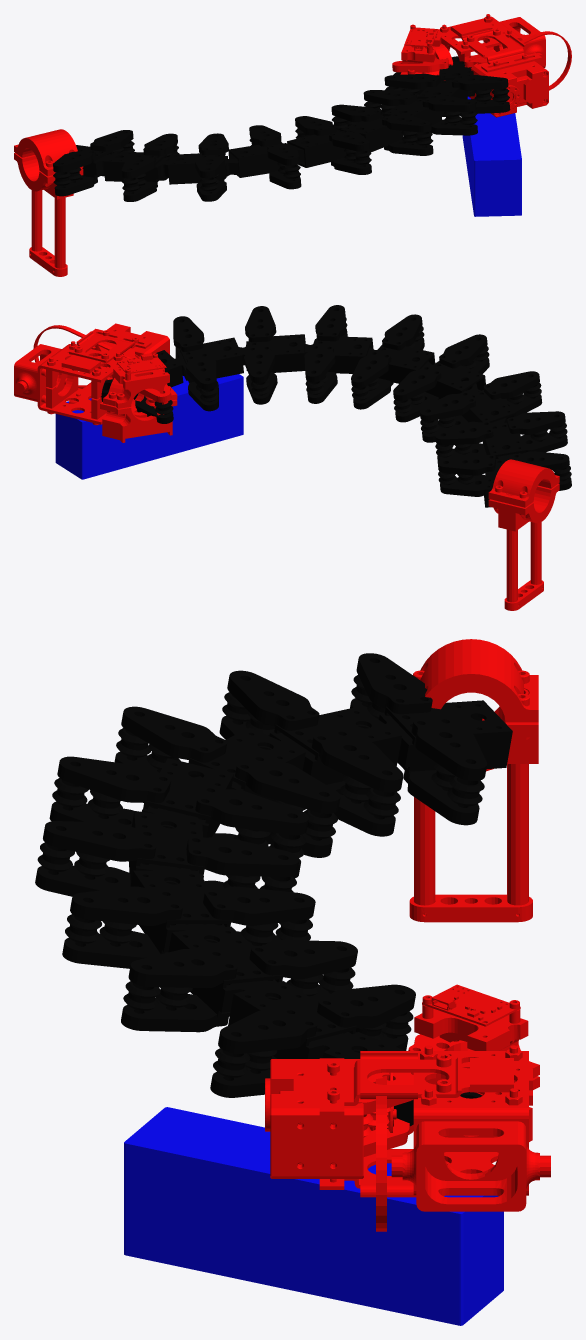
The model's file is ducted_fan_head_link_spine_shaped.dae.
3 views of the same model, one above another, from view 1: azimuth 30°, elevation 25°; view 2: azimuth 150°, elevation 25°; view 3: azimuth 270°, elevation 25° (orthographic). The views are drawn at different scales.
Parts seen in each view (by area): view 1: ducted_fan_head_link_spine_shaped - spine_for_dragon-1 tail. (×33), ducted_fan_head_link_spine_shaped - zippy-3000Amh-6s_3-1, ducted_fan_head_link_spine_shaped - end_leg_1-1 end_link_leg (×2), ducted_fan_head_link_spine_shaped - joint_3-1 x-430_idle_3-1, ducted_fan_head_link_spine_shaped - joint_3-1 joint_servo_h, ducted_fan_head_link_spine_shaped - spine_for_dragon-1 tail_, ducted_fan_head_link_spine_shaped - joint_3-1 joint_connecti, ducted_fan_head_link_spine_shaped - joint_3-1 joint_pipe_hol, ducted_fan_head_link_spine_shaped - end_leg_1-1 end_leg_pip, ducted_fan_head_link_spine_shaped - end_leg_1-1 end_leg_pipe, ducted_fan_head_link_spine_shaped - neuron_set_3-1 neuron_bo, ducted_fan_head_link_spine_shaped - neuron_set_3-1 distribut (+3 smaller); view 2: ducted_fan_head_link_spine_shaped - spine_for_dragon-1 tail. (×33), ducted_fan_head_link_spine_shaped - zippy-3000Amh-6s_3-1, ducted_fan_head_link_spine_shaped - end_leg_1-1 end_link_leg (×2), ducted_fan_head_link_spine_shaped - joint_3-1 joint_pipe_hol, ducted_fan_head_link_spine_shaped - joint_3-1 joint_connecti, ducted_fan_head_link_spine_shaped - neuron_set_3-1 neuron_bo, ducted_fan_head_link_spine_shaped - spine_for_dragon-1 tail_, ducted_fan_head_link_spine_shaped - neuron_set_3-1 25mm_pipe, ducted_fan_head_link_spine_shaped - joint_3-1 joint_servo_h, ducted_fan_head_link_spine_shaped - joint_3-1 x-430_idle_3-1, ducted_fan_head_link_spine_shaped - end_leg_1-1 end_leg_pipe, ducted_fan_head_link_spine_shaped - end_leg_1-1 end_leg_pip (+5 smaller); view 3: ducted_fan_head_link_spine_shaped - spine_for_dragon-1 tail. (×33), ducted_fan_head_link_spine_shaped - zippy-3000Amh-6s_3-1, ducted_fan_head_link_spine_shaped - joint_3-1 x-430_idle_3-1, ducted_fan_head_link_spine_shaped - joint_3-1 joint_connecti, ducted_fan_head_link_spine_shaped - end_leg_1-1 end_link_leg (×2), ducted_fan_head_link_spine_shaped - joint_3-1 joint_pipe_hol, ducted_fan_head_link_spine_shaped - joint_3-1 joint_servo_h, ducted_fan_head_link_spine_shaped - end_leg_1-1 end_leg_pipe, ducted_fan_head_link_spine_shaped - end_leg_1-1 end_leg_lock, ducted_fan_head_link_spine_shaped - neuron_set_3-1 neuron_bo, ducted_fan_head_link_spine_shaped - spine_for_dragon-1 tail_, ducted_fan_head_link_spine_shaped - end_leg_1-1 end_leg_pip (+4 smaller).
Boxes of the visible parts, bbox=[...] form: ducted_fan_head_link_spine_shaped - spine_for_dragon-1 tail. (×33): bbox=[53, 57, 510, 201]; ducted_fan_head_link_spine_shaped - zippy-3000Amh-6s_3-1: bbox=[462, 96, 521, 216]; ducted_fan_head_link_spine_shaped - end_leg_1-1 end_link_leg (×2): bbox=[14, 129, 83, 199]; ducted_fan_head_link_spine_shaped - joint_3-1 x-430_idle_3-1: bbox=[471, 61, 548, 117]; ducted_fan_head_link_spine_shaped - joint_3-1 joint_servo_h: bbox=[461, 28, 541, 72]; ducted_fan_head_link_spine_shaped - spine_for_dragon-1 tail_: bbox=[228, 142, 282, 177]; ducted_fan_head_link_spine_shaped - joint_3-1 joint_connecti: bbox=[499, 17, 545, 67]; ducted_fan_head_link_spine_shaped - joint_3-1 joint_pipe_hol: bbox=[436, 16, 522, 54]; ducted_fan_head_link_spine_shaped - end_leg_1-1 end_leg_pip: bbox=[54, 197, 65, 268]; ducted_fan_head_link_spine_shaped - end_leg_1-1 end_leg_pipe: bbox=[31, 190, 42, 251]; ducted_fan_head_link_spine_shaped - neuron_set_3-1 neuron_bo: bbox=[400, 35, 441, 74]; ducted_fan_head_link_spine_shaped - neuron_set_3-1 distribut: bbox=[404, 27, 438, 50]; ducted_fan_head_link_spine_shaped - spine_for_dragon-1 tail. (×33): bbox=[133, 305, 569, 507]; ducted_fan_head_link_spine_shaped - zippy-3000Amh-6s_3-1: bbox=[55, 374, 243, 479]; ducted_fan_head_link_spine_shaped - end_leg_1-1 end_link_leg (×2): bbox=[488, 459, 559, 531]; ducted_fan_head_link_spine_shaped - joint_3-1 joint_pipe_hol: bbox=[37, 344, 130, 424]; ducted_fan_head_link_spine_shaped - joint_3-1 joint_connecti: bbox=[14, 344, 61, 401]; ducted_fan_head_link_spine_shaped - neuron_set_3-1 neuron_bo: bbox=[113, 367, 177, 408]; ducted_fan_head_link_spine_shaped - spine_for_dragon-1 tail_: bbox=[425, 361, 485, 398]; ducted_fan_head_link_spine_shaped - neuron_set_3-1 25mm_pipe: bbox=[115, 399, 177, 442]; ducted_fan_head_link_spine_shaped - joint_3-1 joint_servo_h: bbox=[69, 328, 151, 363]; ducted_fan_head_link_spine_shaped - joint_3-1 x-430_idle_3-1: bbox=[91, 323, 169, 368]; ducted_fan_head_link_spine_shaped - end_leg_1-1 end_leg_pipe: bbox=[506, 493, 517, 602]; ducted_fan_head_link_spine_shaped - end_leg_1-1 end_leg_pip: bbox=[530, 522, 541, 584]; ducted_fan_head_link_spine_shaped - spine_for_dragon-1 tail. (×33): bbox=[35, 653, 512, 1156]; ducted_fan_head_link_spine_shaped - zippy-3000Amh-6s_3-1: bbox=[124, 1107, 503, 1325]; ducted_fan_head_link_spine_shaped - joint_3-1 x-430_idle_3-1: bbox=[265, 1059, 363, 1178]; ducted_fan_head_link_spine_shaped - joint_3-1 joint_connecti: bbox=[391, 1121, 550, 1211]; ducted_fan_head_link_spine_shaped - end_leg_1-1 end_link_leg (×2): bbox=[420, 639, 538, 771]; ducted_fan_head_link_spine_shaped - joint_3-1 joint_pipe_hol: bbox=[413, 1051, 528, 1195]; ducted_fan_head_link_spine_shaped - joint_3-1 joint_servo_h: bbox=[319, 1051, 461, 1115]; ducted_fan_head_link_spine_shaped - end_leg_1-1 end_leg_pipe: bbox=[507, 689, 528, 914]; ducted_fan_head_link_spine_shaped - end_leg_1-1 end_leg_lock: bbox=[409, 894, 532, 922]; ducted_fan_head_link_spine_shaped - neuron_set_3-1 neuron_bo: bbox=[414, 1008, 539, 1078]; ducted_fan_head_link_spine_shaped - spine_for_dragon-1 tail_: bbox=[143, 758, 233, 837]; ducted_fan_head_link_spine_shaped - end_leg_1-1 end_leg_pip: bbox=[414, 797, 435, 914].
Bounding box in the file's own units: 0.4369 × 0.188 × 0.1186.
